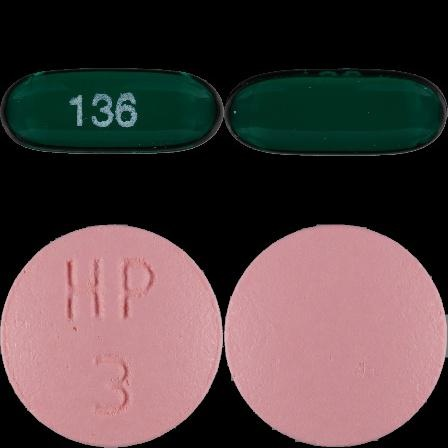43063-391: (0, 0, 224, 224)
